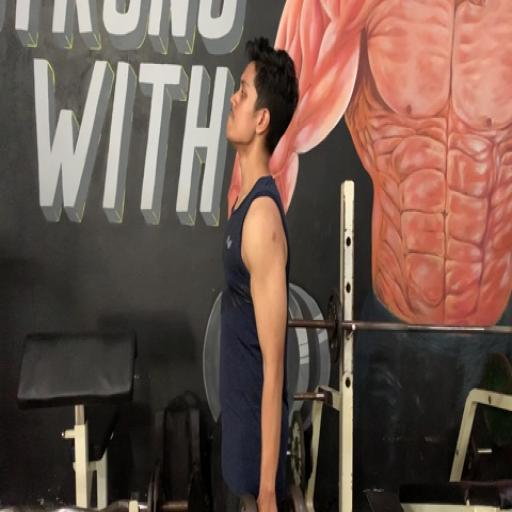exercise: (215, 36, 303, 510)
